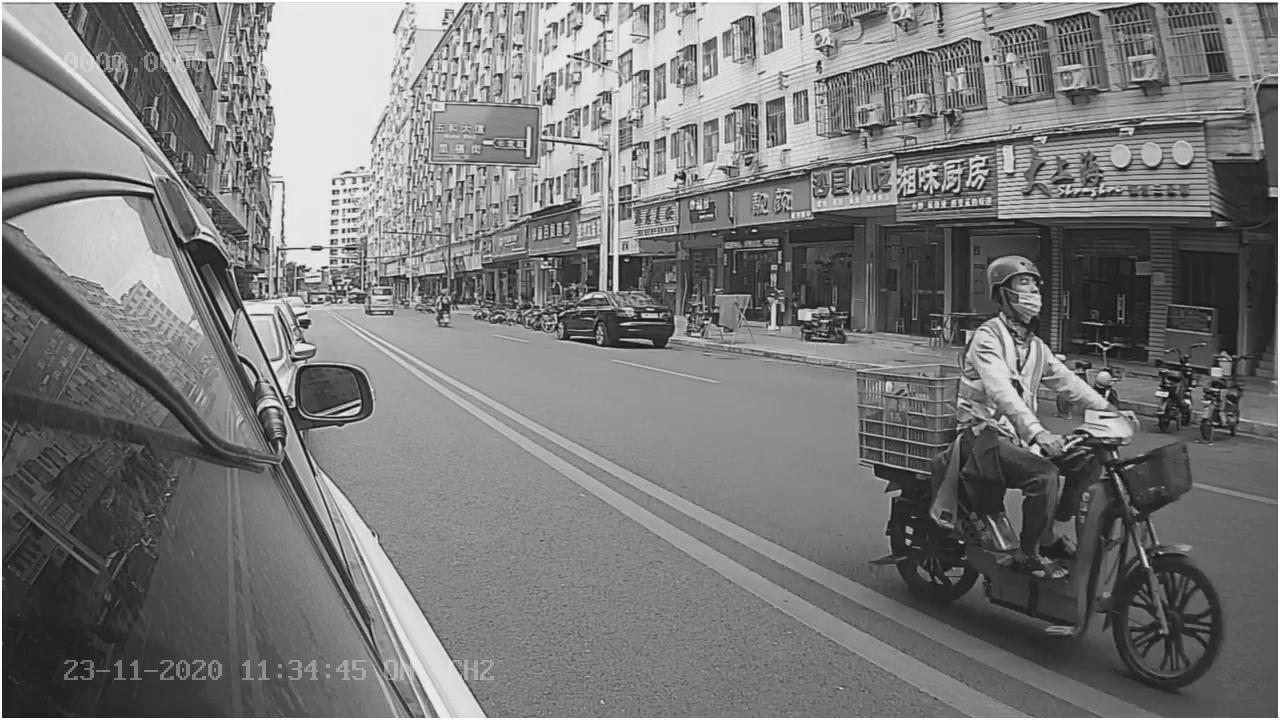person: (964, 245, 1100, 451)
